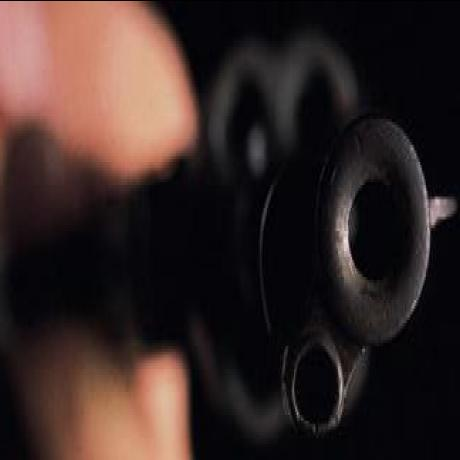weapon: (47, 27, 455, 449)
